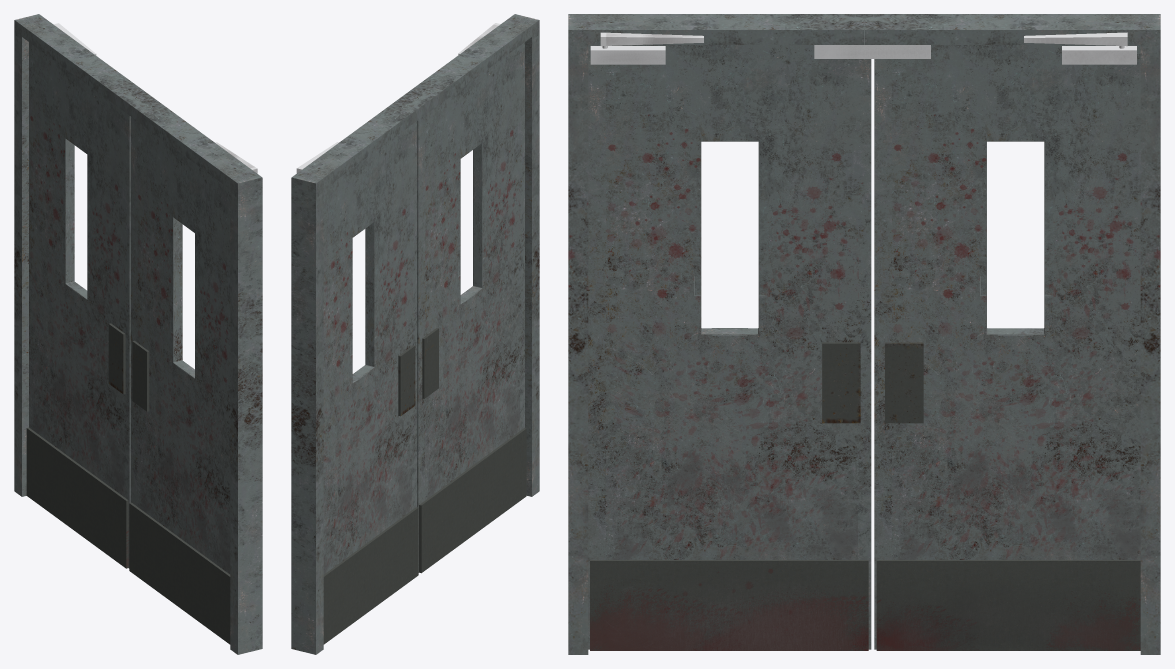
File: hospital_door.glb
3 views of the same model, side by side, from view 1: azimuth 30°, elevation 25°; view 2: azimuth 150°, elevation 25°; view 3: azimuth 270°, elevation 25° (orthographic). The views are drawn at different scales.
Parts seen in each view (by area): view 1: door1, door2, door_Frame, DoorHandle_MetalParts; view 2: door1, door2, door_Frame, DoorHandle_MetalParts; view 3: door1, door2, DoorHandle_MetalParts, door_Frame, Metal_parts.
Boxes of the visible parts, x1,y1,x2,y2 form: door1: (65, 116, 230, 574); door2: (29, 42, 129, 568); door_Frame: (14, 14, 262, 654); DoorHandle_MetalParts: (26, 323, 230, 644); door1: (417, 42, 524, 572); door2: (323, 121, 416, 574); door_Frame: (291, 14, 539, 654); DoorHandle_MetalParts: (323, 328, 526, 644); door1: (588, 45, 1044, 649); door2: (874, 45, 1140, 649); DoorHandle_MetalParts: (590, 342, 1140, 650); door_Frame: (568, 14, 1160, 654); Metal_parts: (590, 32, 1136, 64).
Size of the model in its own units: 0.1685 by 2.39 by 2.05.
4 materials, 4 textured.
